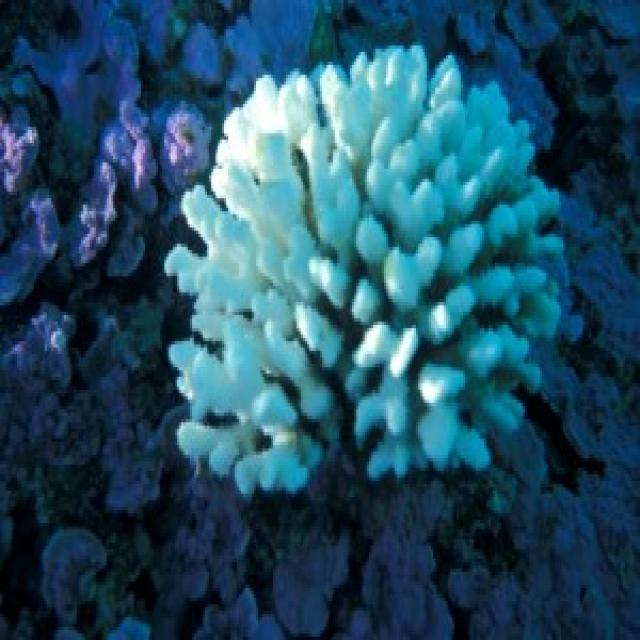Bleached: (165, 46, 562, 495)
